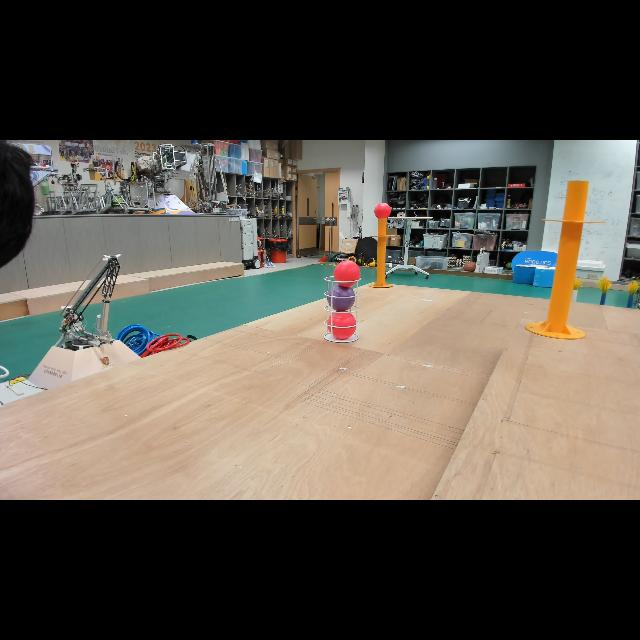P: (326, 284, 356, 314)
R: (325, 310, 359, 342), (333, 259, 363, 289), (372, 198, 392, 222)
S: (322, 275, 362, 343)
